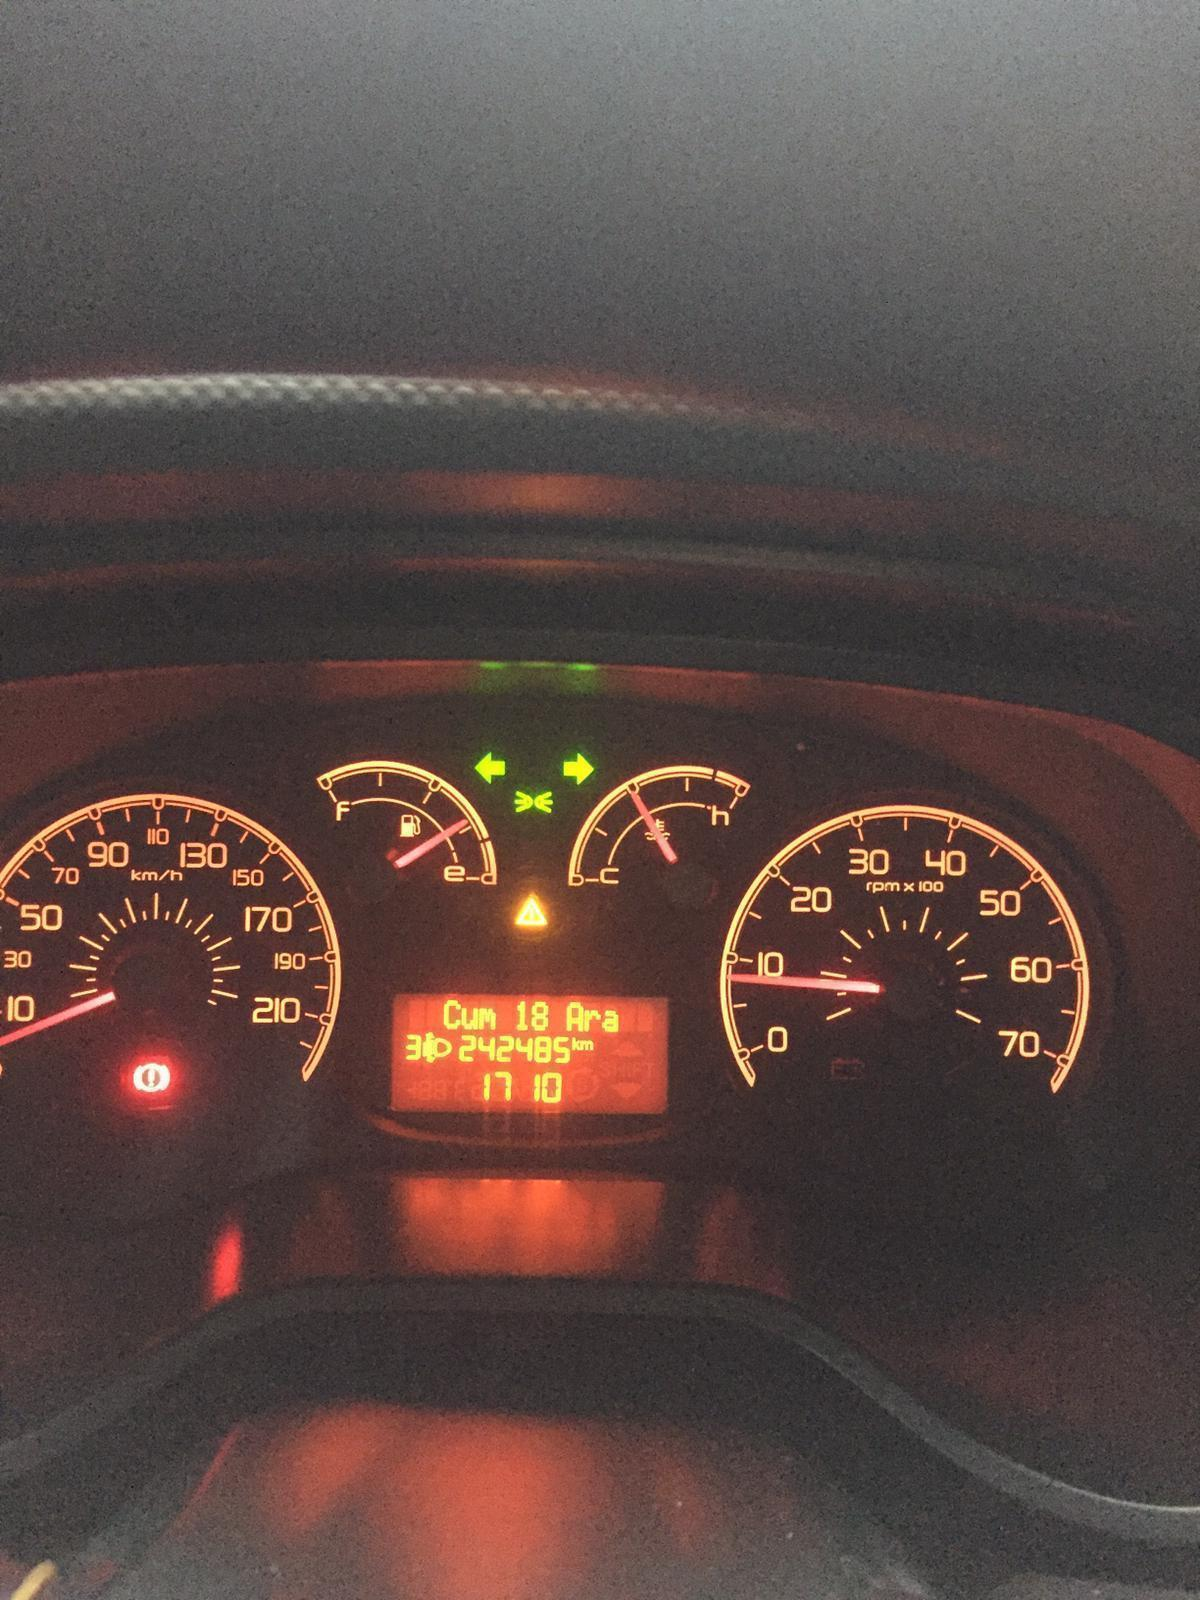0: (539, 1070, 563, 1104)
1: (512, 998, 529, 1032), (478, 1070, 492, 1101), (528, 1070, 541, 1104)
2: (495, 1034, 514, 1065), (458, 1034, 475, 1063)
3: (403, 1032, 422, 1061)
4: (513, 1036, 532, 1063), (476, 1036, 495, 1062)
5: (553, 1034, 570, 1065)
7: (492, 1070, 513, 1102)
8: (529, 999, 550, 1033), (534, 1034, 552, 1065)
X: (563, 999, 584, 1034), (441, 997, 461, 1031), (600, 1008, 620, 1034), (459, 1004, 476, 1032), (582, 1007, 600, 1033), (476, 1007, 495, 1031), (580, 1037, 595, 1052), (570, 1036, 579, 1052)
odometer: (377, 985, 678, 1123)
